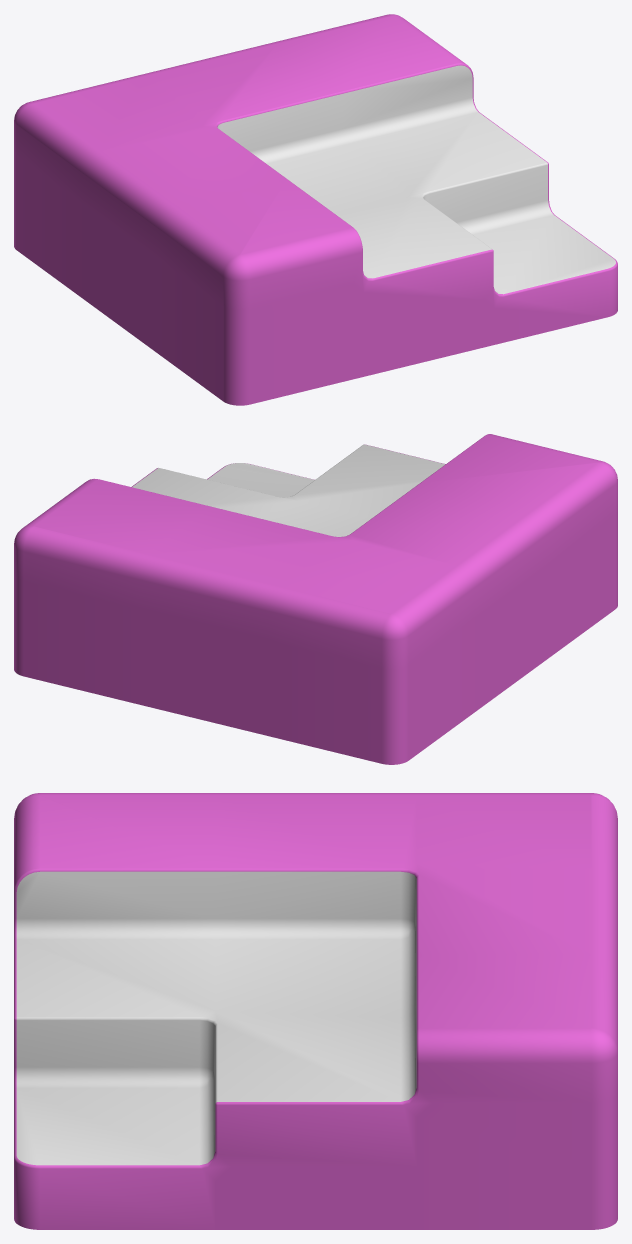
Rendered from Mining_Flat_DugOut_Top_01.fbx.
The picture shows the model from 3 angles, top to bottom: view 1: azimuth 30°, elevation 25°; view 2: azimuth 150°, elevation 25°; view 3: azimuth 270°, elevation 25°; orthographic projection. The views are drawn at different scales.
Parts seen in each view (by area): view 1: Mining_Top_DugOut 01; view 2: Mining_Top_DugOut 01; view 3: Mining_Top_DugOut 01.
Part boxes in pixels (x1,y1,x2,y2): Mining_Top_DugOut 01: (14,14,617,405); Mining_Top_DugOut 01: (14,434,617,764); Mining_Top_DugOut 01: (14,793,617,1229).
Size of the model in its own units: 5.75 by 5.75 by 2.
